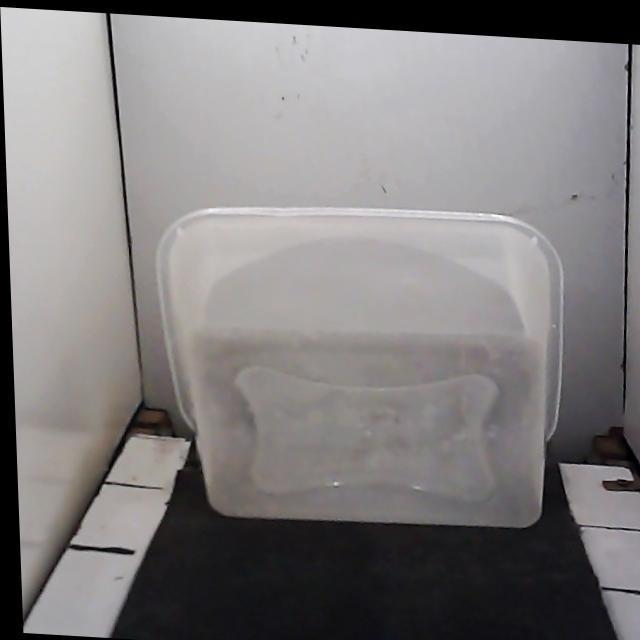plastico: (157, 207, 562, 526)
